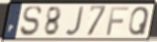7: (86, 4, 108, 38)
8: (43, 6, 63, 37)
F: (105, 5, 130, 36)
J: (64, 5, 86, 38)
Q: (127, 6, 151, 37)
S: (19, 5, 43, 37)
